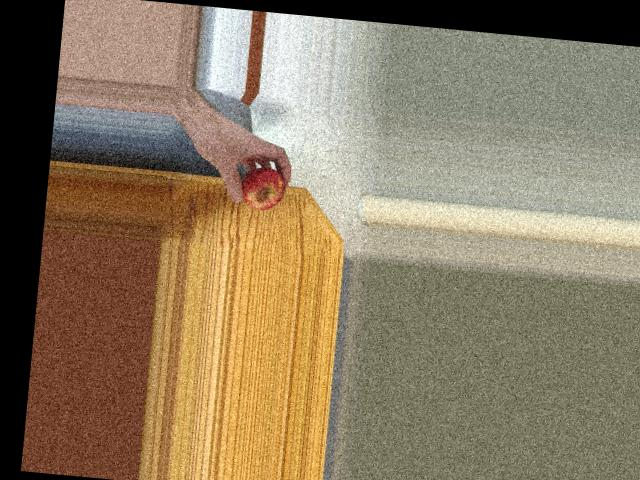apple: (233, 164, 288, 212)
